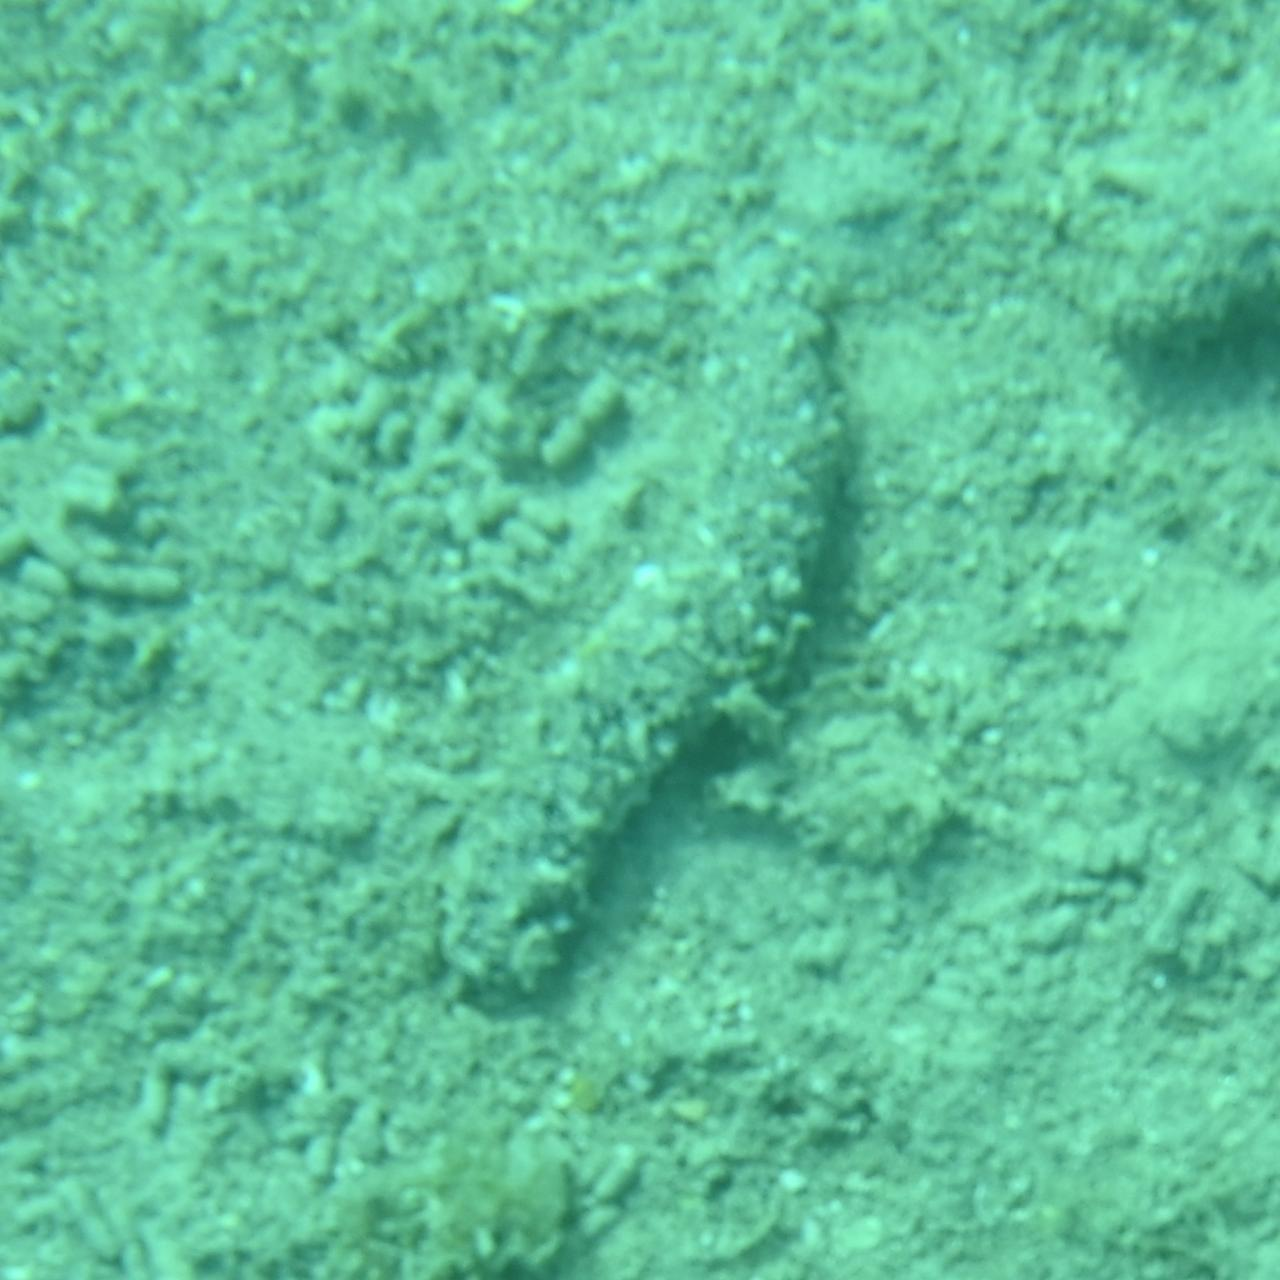Holothuria tubulosa: (420, 255, 860, 1025)
